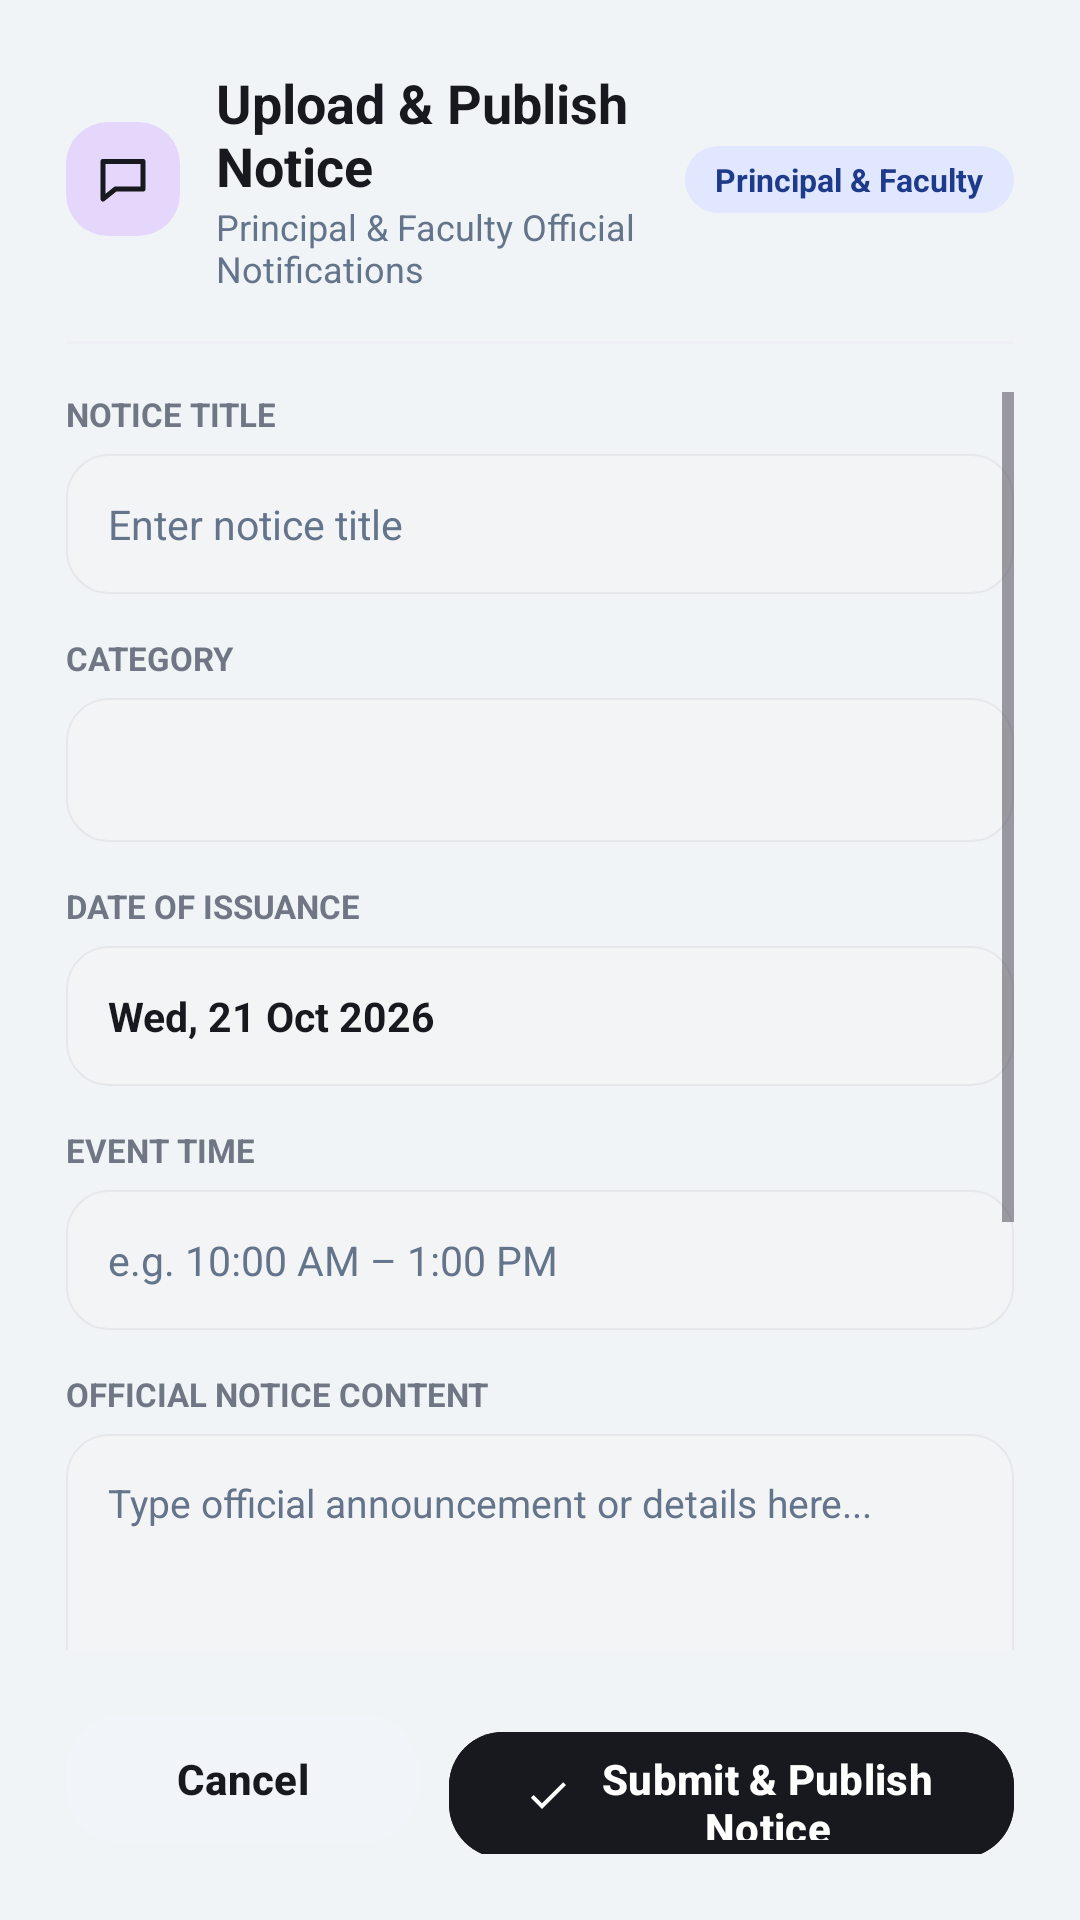

Icon click points for this 1080w x 1920h phone screenshot, format [x,y]:
chat: [123,179]
